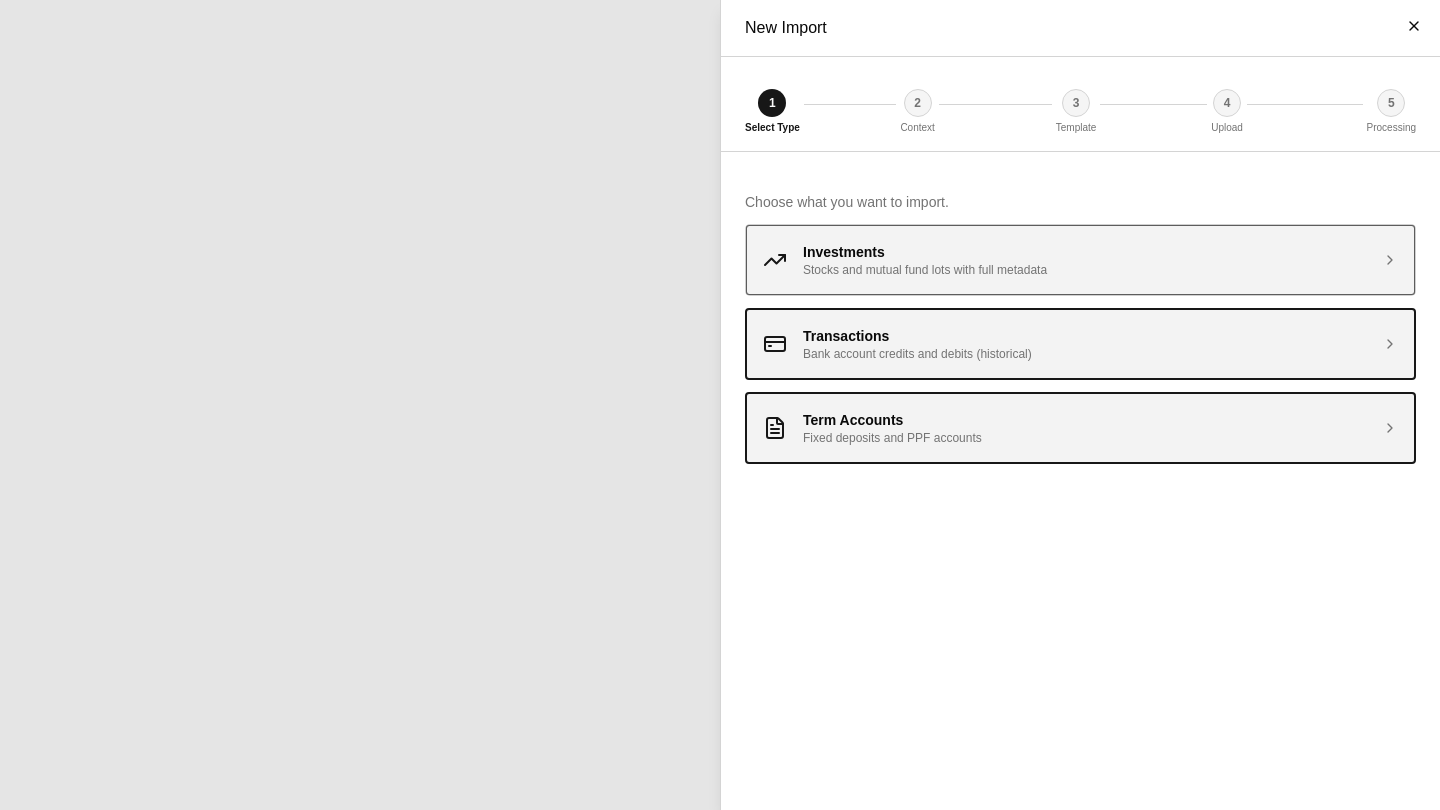
Test: ImportWizard – Step 1: Select Type › clicking "Transactions" advances to step 2 (Context)
The width and height of the screenshot is (1440, 810).
Click the text "Transactions".
click(846, 336)  # box [803,328,889,344]
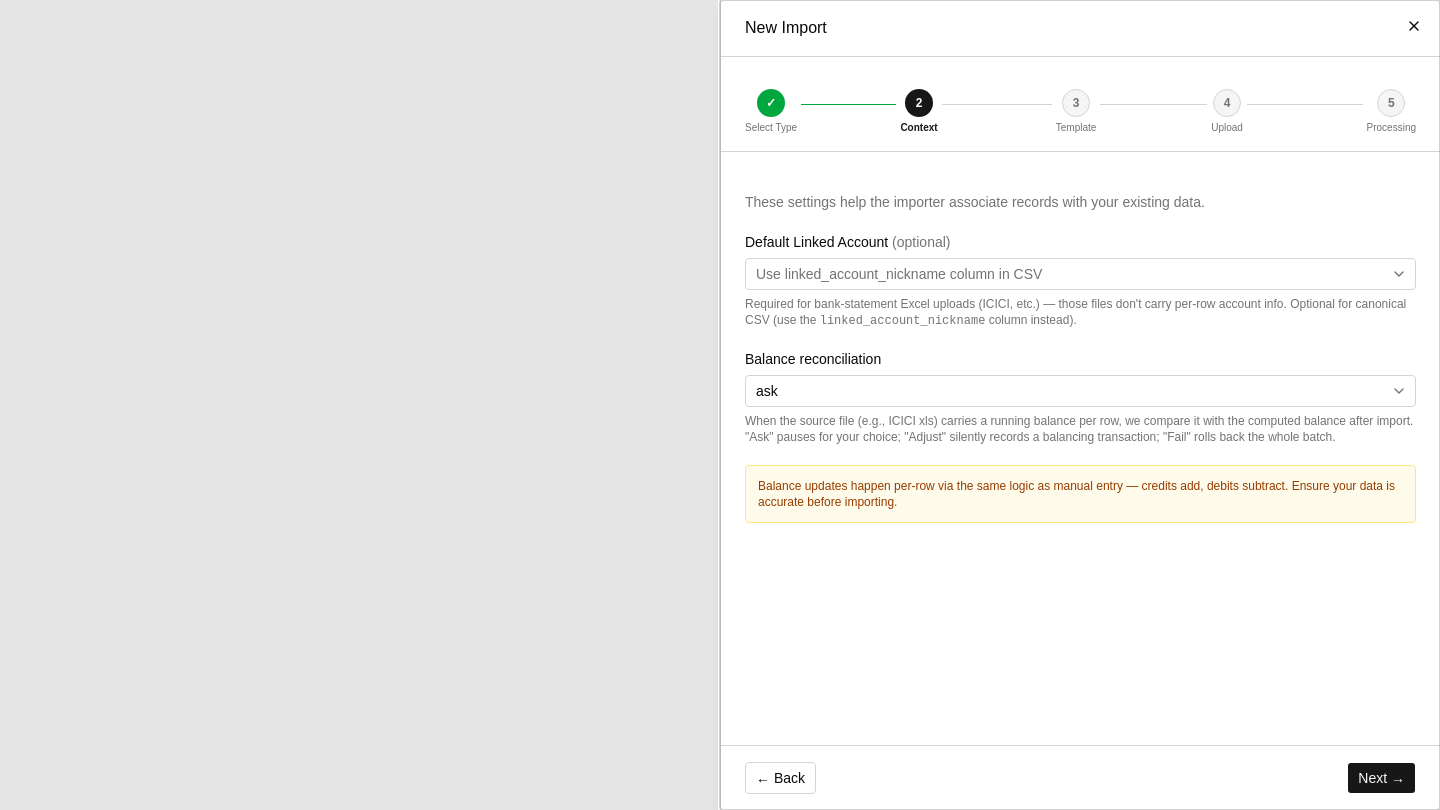
Check: the text "Default Linked Account (optional)" is shown, box [745,234,950,250]
